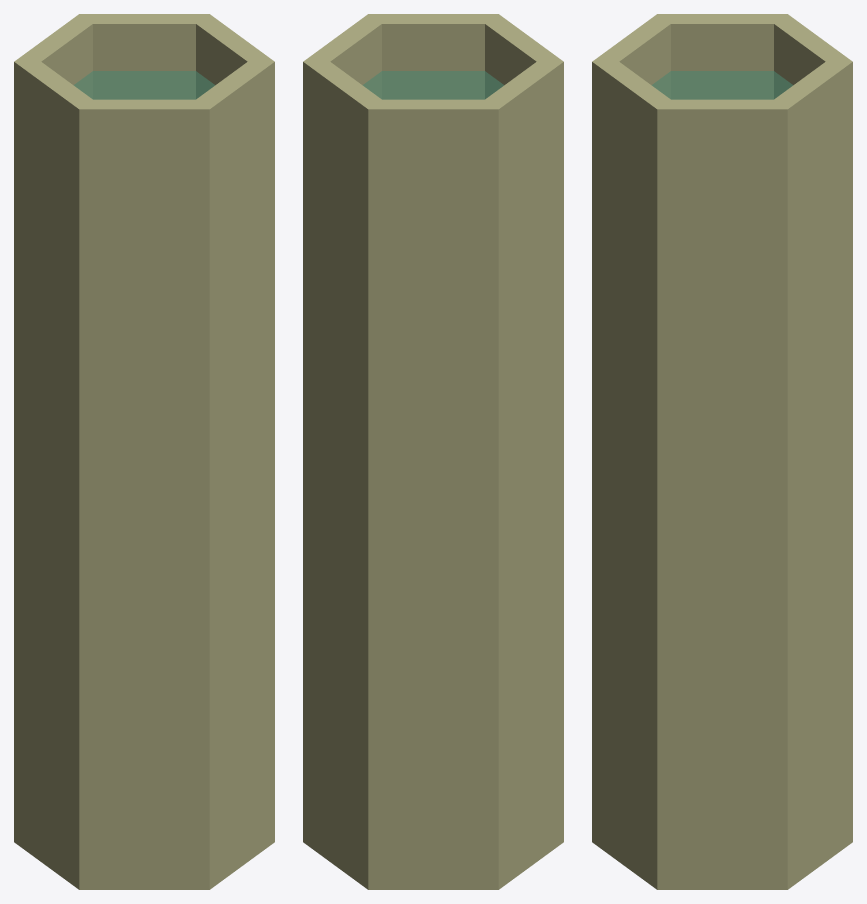
The model's file is 02_Tuile_Troue_01_V001.fbx.
3 renders of one model, left to right at view 1: azimuth 30°, elevation 25°; view 2: azimuth 150°, elevation 25°; view 3: azimuth 270°, elevation 25°, orthographic.
Parts seen in each view (by area): view 1: Tuile_Troue2; view 2: Tuile_Troue2; view 3: Tuile_Troue2.
Part boxes in pixels (<box>): Tuile_Troue2: <box>14,14,274,889</box>; Tuile_Troue2: <box>303,14,563,889</box>; Tuile_Troue2: <box>592,14,852,889</box>.
Size of the model in its own units: 1.73 by 6.61 by 2.
